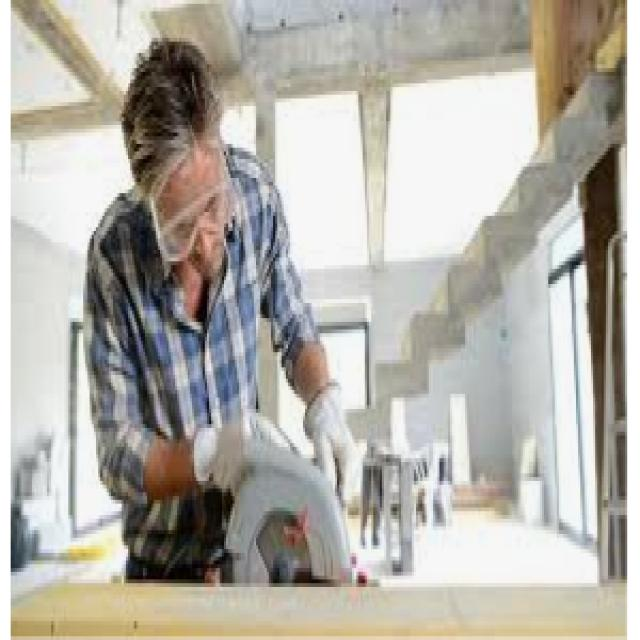glasses: (152, 168, 242, 260)
